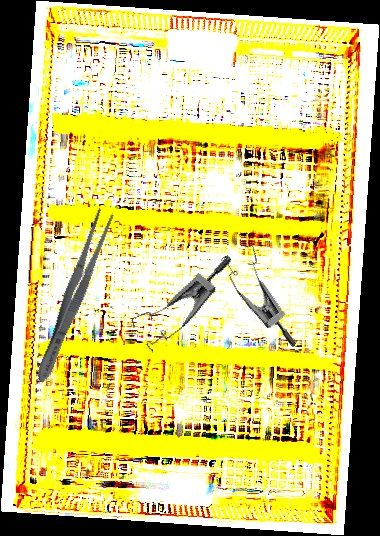Dressing Forceps: (29, 206, 118, 387)
Speculum: (122, 229, 234, 365), (206, 236, 327, 348)
